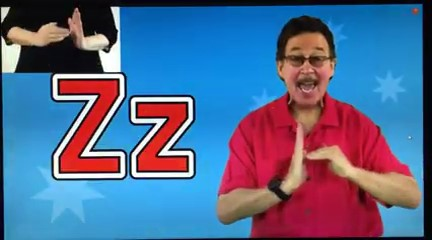Z: (271, 115, 356, 204)
